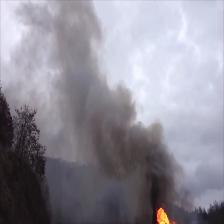fire: (151, 204, 175, 224)
smoke: (86, 97, 181, 201), (10, 2, 112, 90)
